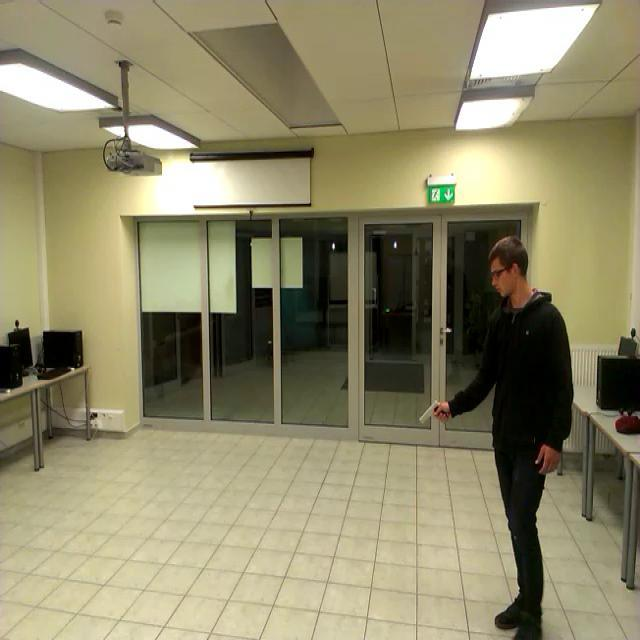Gun: (418, 398, 446, 422)
